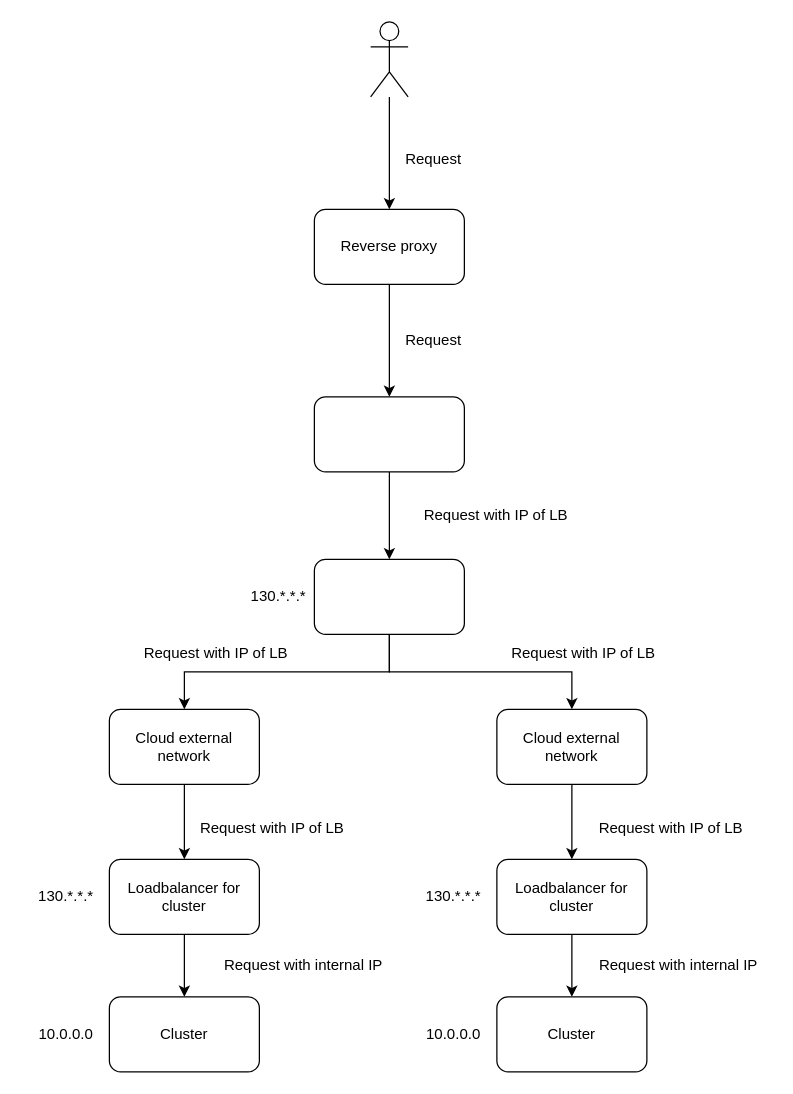
The diagram is 793 pixels wide and 1094 high, and some of its shapes have lost their labels. The shapes that lost their labels are listed below. From the top down, each one's centre as x and y in pixels, then its label:
At (388,59): "User".
At (388,434): "DNS server".
At (388,596): "Cloud LB".
